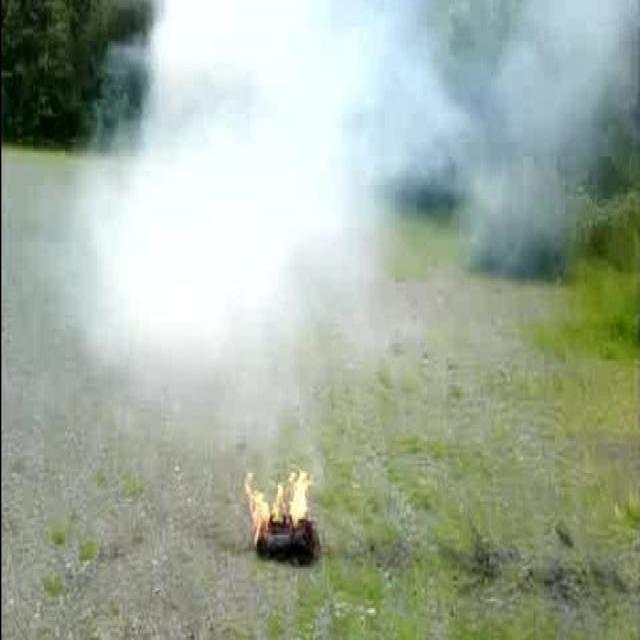Fire: (243, 468, 317, 546)
Smoke: (56, 0, 640, 465)
